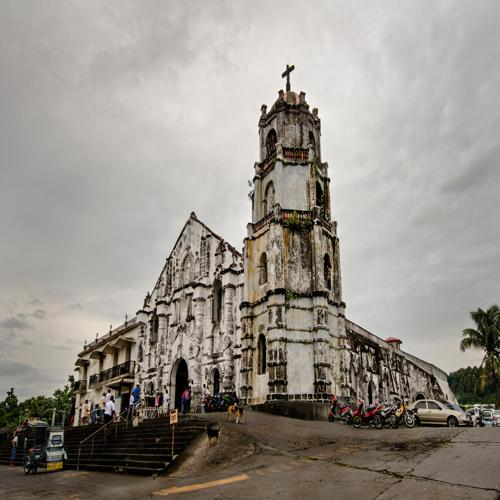Daraga Church: (70, 45, 348, 426)
